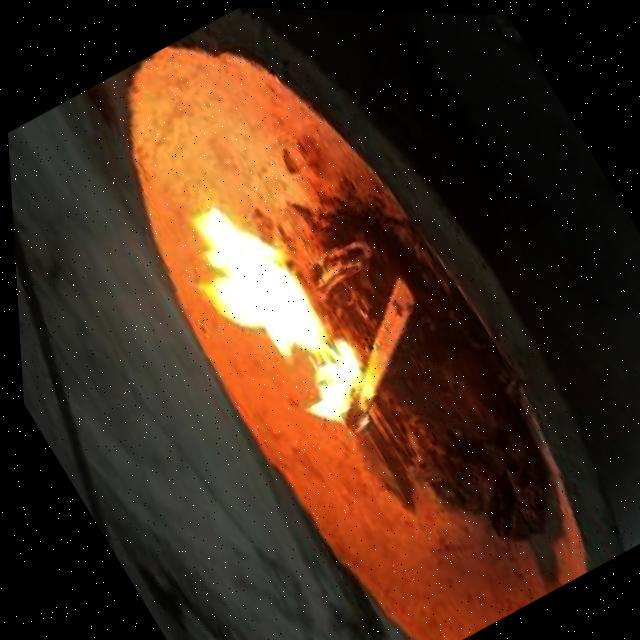Fire: (143, 172, 401, 479)
